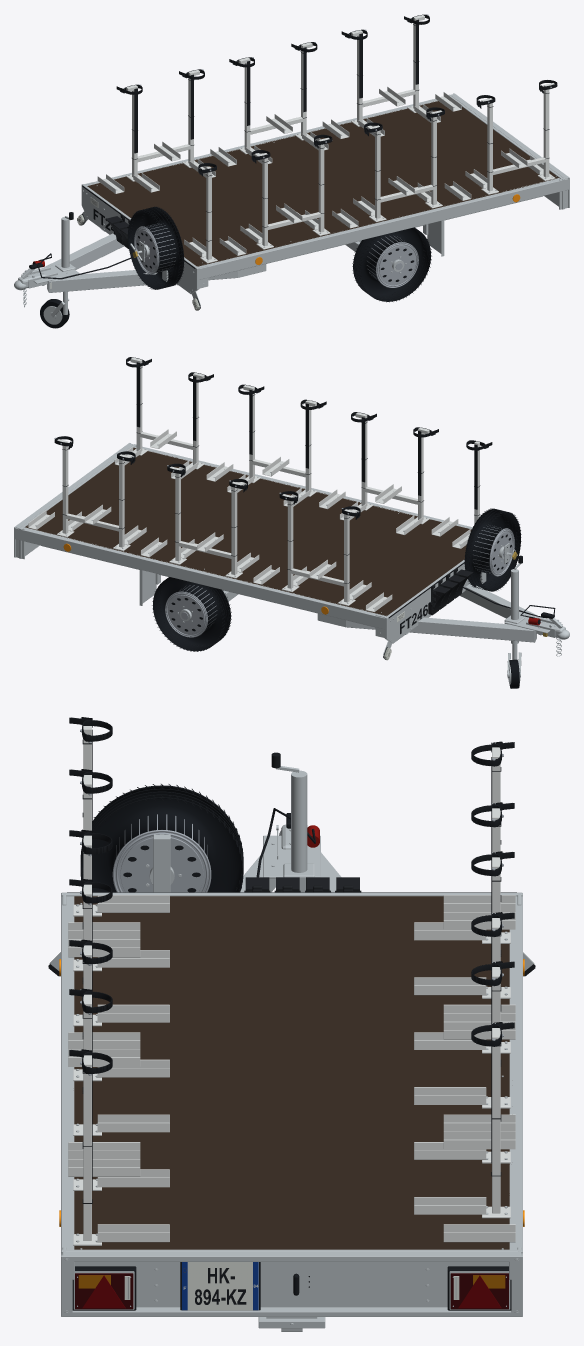
The model's file is trailer-13.glb.
The picture shows the model from 3 angles, top to bottom: view 1: azimuth 30°, elevation 25°; view 2: azimuth 150°, elevation 25°; view 3: azimuth 270°, elevation 25°; orthographic projection. The views are drawn at different scales.
Visible parts, largest first — view 1: Contreplaque phenolique brun, Acier galvanise, Supports laques blanc casse.001, Caoutchouc pneus, Sangles et garnitures noires.001, Sangles et garnitures noires, Jantes acier argente, Plastique noir cales; view 2: Contreplaque phenolique brun, Acier galvanise, Supports laques blanc casse.001, Caoutchouc pneus, Sangles et garnitures noires.001, Sangles et garnitures noires, Jantes acier argente, Plastique noir cales; view 3: Contreplaque phenolique brun, Acier galvanise, Supports laques blanc casse.001, Caoutchouc pneus, Sangles et garnitures noires.001, Sangles et garnitures noires, Jantes acier argente, Cabochons blancs, Arriere - fond optique rouge, Plastique noir cales, Arriere - triangle rouge.
Boxes of the visible parts, bbox=[...] form: Contreplaque phenolique brun: bbox=[87, 101, 558, 266]; Acier galvanise: bbox=[14, 93, 569, 324]; Supports laques blanc casse.001: bbox=[97, 15, 555, 263]; Caoutchouc pneus: bbox=[40, 207, 430, 328]; Sangles et garnitures noires.001: bbox=[116, 14, 557, 241]; Sangles et garnitures noires: bbox=[29, 185, 431, 310]; Jantes acier argente: bbox=[134, 223, 418, 287]; Plastique noir cales: bbox=[105, 214, 130, 248]; Contreplaque phenolique brun: bbox=[25, 447, 471, 616]; Acier galvanise: bbox=[14, 443, 569, 684]; Supports laques blanc casse.001: bbox=[28, 357, 479, 612]; Caoutchouc pneus: bbox=[153, 509, 520, 688]; Sangles et garnitures noires.001: bbox=[54, 357, 492, 583]; Sangles et garnitures noires: bbox=[152, 508, 555, 659]; Jantes acier argente: bbox=[165, 526, 514, 637]; Plastique noir cales: bbox=[428, 567, 473, 615]; Contreplaque phenolique brun: bbox=[74, 896, 509, 1249]; Acier galvanise: bbox=[50, 766, 533, 1331]; Supports laques blanc casse.001: bbox=[68, 726, 515, 1245]; Caoutchouc pneus: bbox=[81, 785, 242, 892]; Sangles et garnitures noires.001: bbox=[69, 717, 514, 1203]; Sangles et garnitures noires: bbox=[48, 752, 535, 1310]; Jantes acier argente: bbox=[112, 814, 211, 892]; Cabochons blancs: bbox=[124, 1262, 459, 1310]; Arriere - fond optique rouge: bbox=[75, 1273, 508, 1309]; Plastique noir cales: bbox=[244, 877, 361, 892]; Arriere - triangle rouge: bbox=[82, 1275, 501, 1308].
Bounding box in the file's own units: 3.98 × 1.37 × 1.69.
